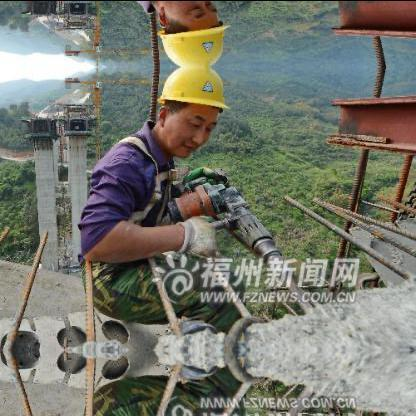Helmet: (146, 65, 236, 159), (145, 0, 237, 66)
